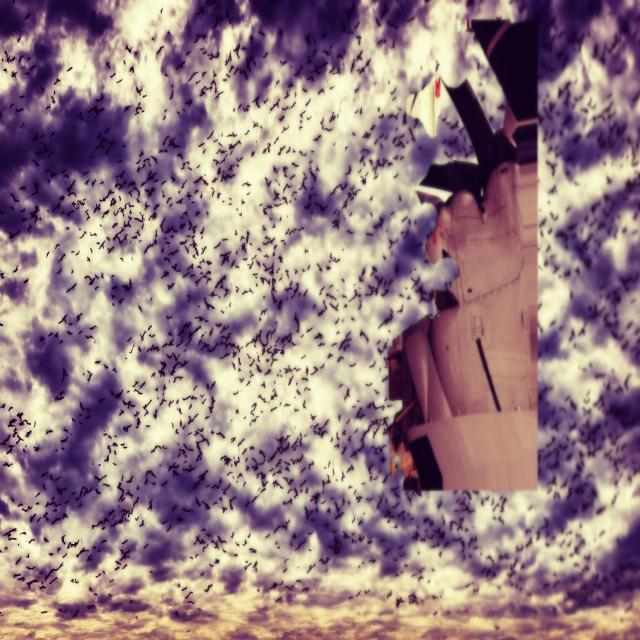airplane: (385, 16, 539, 494)
